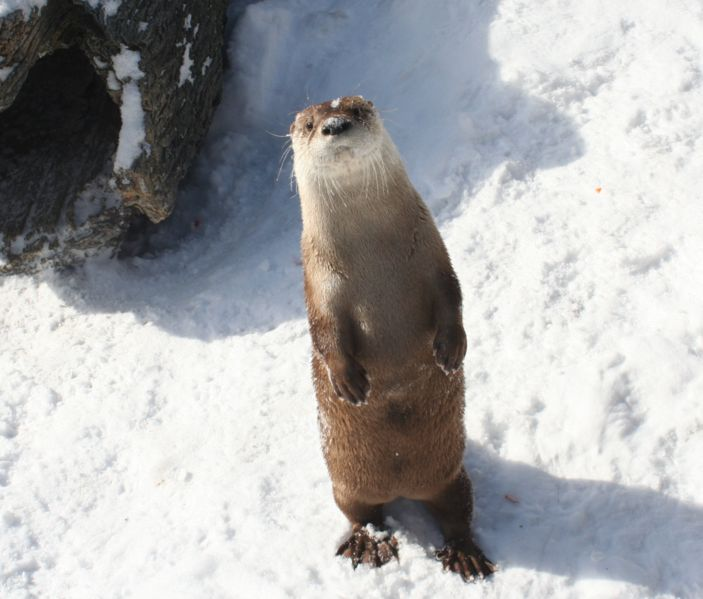otter: (257, 84, 573, 586)
